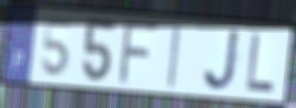5: (81, 15, 118, 85), (38, 16, 75, 78)
F: (116, 19, 163, 87)
I: (165, 22, 183, 91)
J: (201, 27, 243, 94)
L: (244, 31, 276, 96)
